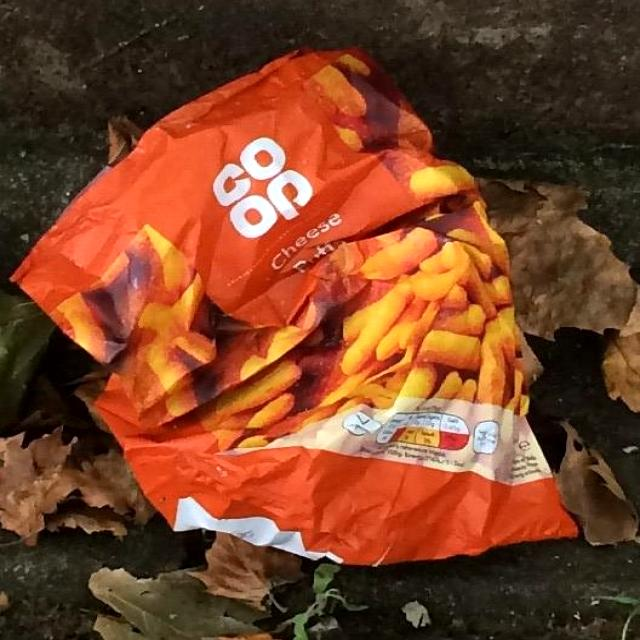Trash: (3, 36, 585, 573)
